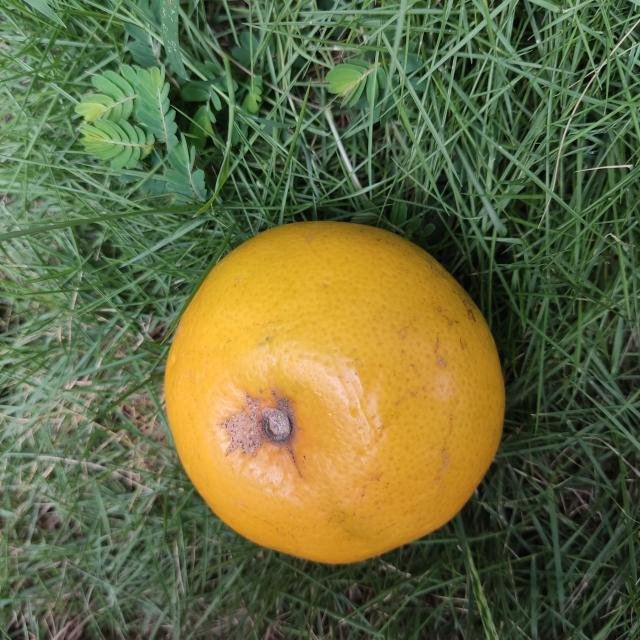orange: (159, 217, 513, 570)
